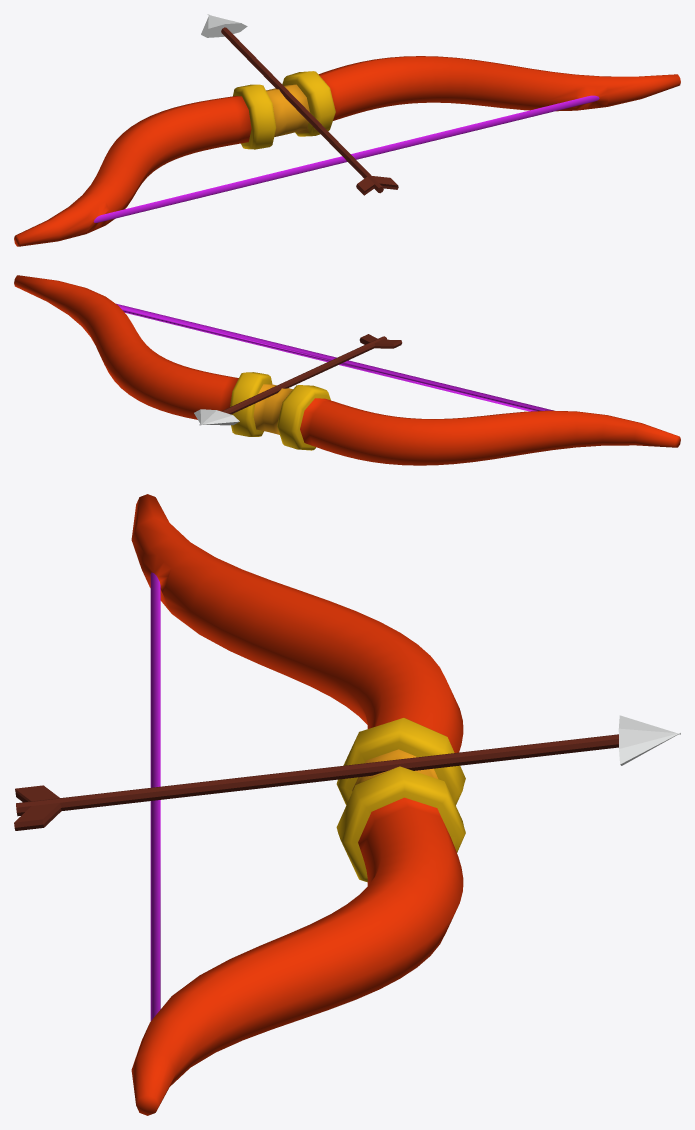
The model's file is Bow and Arrow(low poly).fbx.
The picture shows the model from 3 angles, top to bottom: view 1: azimuth 30°, elevation 25°; view 2: azimuth 150°, elevation 25°; view 3: azimuth 270°, elevation 25°; orthographic projection. The views are drawn at different scales.
Visible parts, largest first — view 1: NurbsPath, Cylinder; view 2: NurbsPath, Cylinder; view 3: NurbsPath, Cylinder.
Boxes of the visible parts, box(x1,y1,x2,y2) form: NurbsPath: box(14, 56, 680, 246); Cylinder: box(201, 14, 398, 195); NurbsPath: box(14, 275, 680, 465); Cylinder: box(194, 334, 402, 425); NurbsPath: box(131, 494, 465, 1115); Cylinder: box(14, 715, 680, 830).
Size of the model in its own units: 708 by 75.54 by 332.
